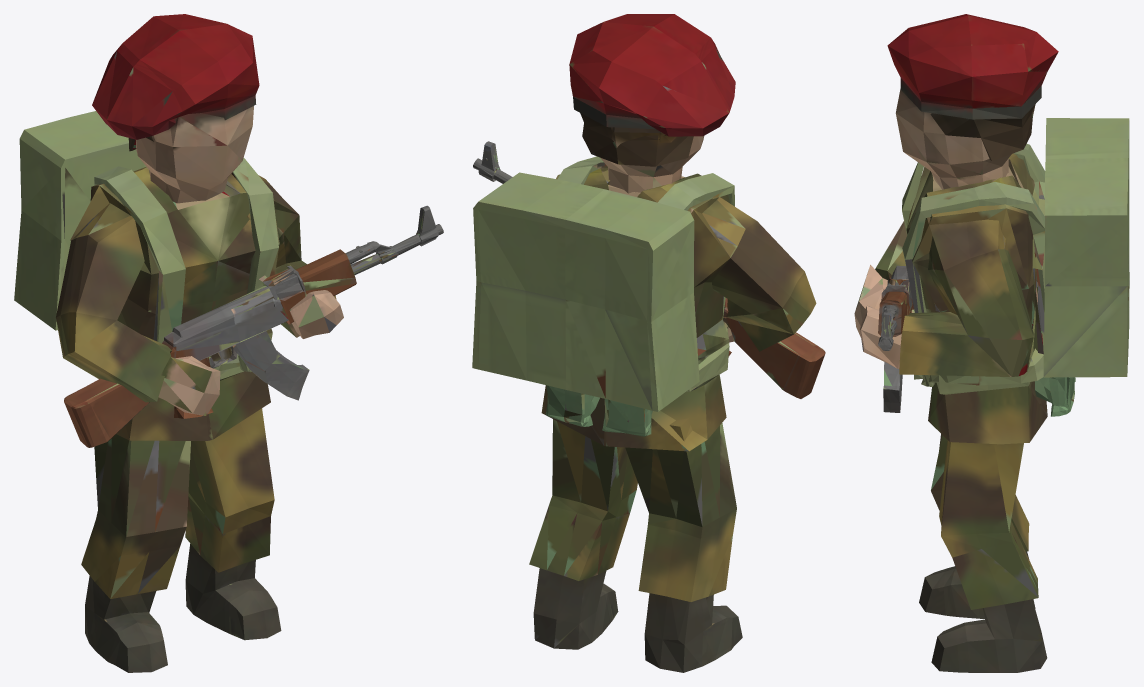
Rendered from golan73_syrian_airborne_0.glb.
3 renders of one model, left to right at view 1: azimuth 30°, elevation 25°; view 2: azimuth 150°, elevation 25°; view 3: azimuth 270°, elevation 25°, orthographic.
Visible parts, largest first — view 1: geometry_0; view 2: geometry_0; view 3: geometry_0.
Part boxes in pixels (bbox=[...]): geometry_0: bbox=[14, 14, 443, 672]; geometry_0: bbox=[472, 14, 825, 672]; geometry_0: bbox=[854, 14, 1129, 672].
Size of the model in its own units: 0.2004 by 0.324 by 0.1318.
Materials: 1 (1 with a texture image).
